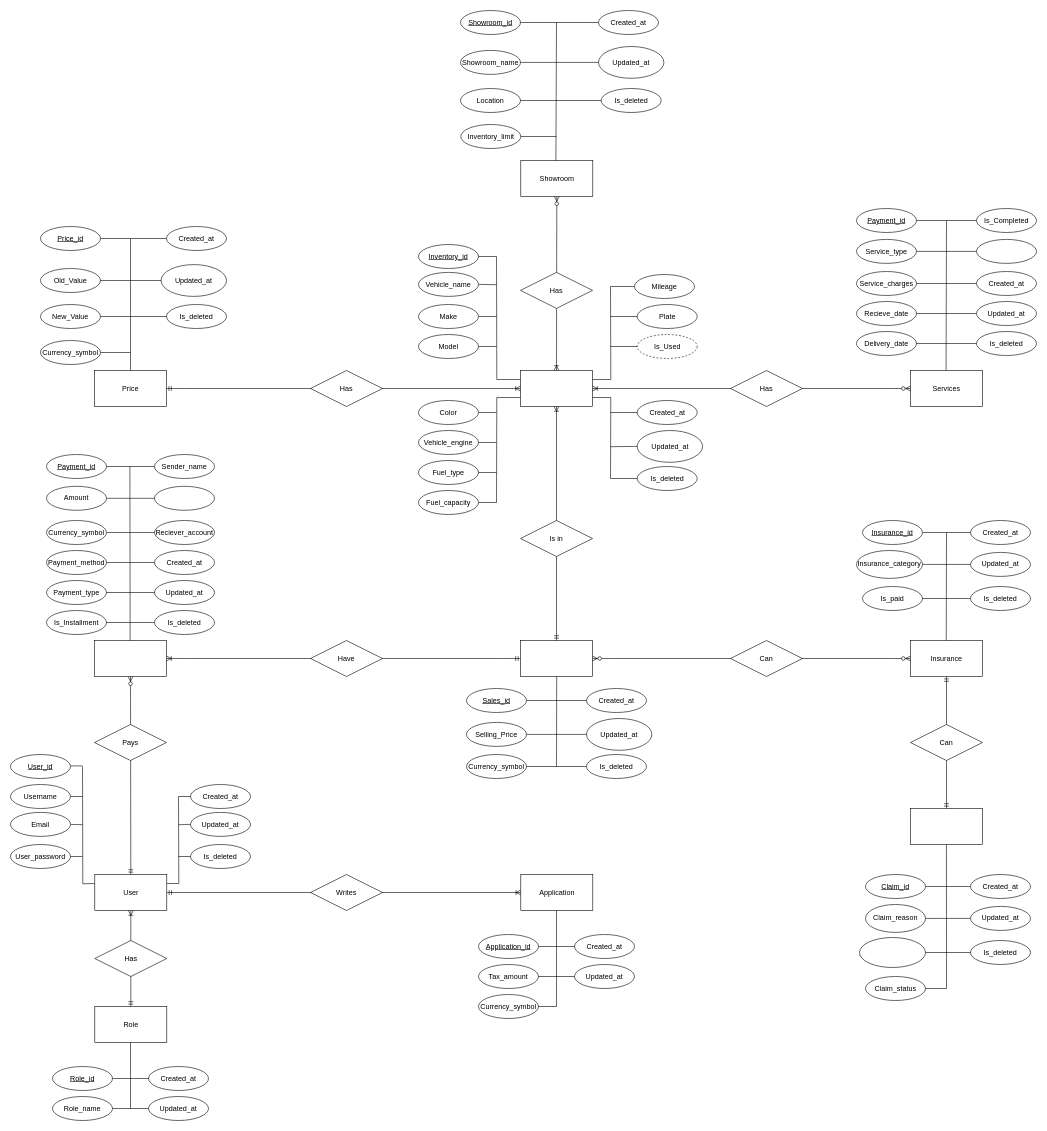
This 1047x1131 diagram has some shape labels left out. Here are the shapes that lost their labels. From the top down, the centre of each, then its label:
At (1006,251): "Customer_review".
At (556,388): "Inventory".
At (184,498): "Sender_account".
At (130,658): "Payment".
At (556,658): "Sales".
At (946,826): "Claims".
At (892,952): "Claim_approved_on".
